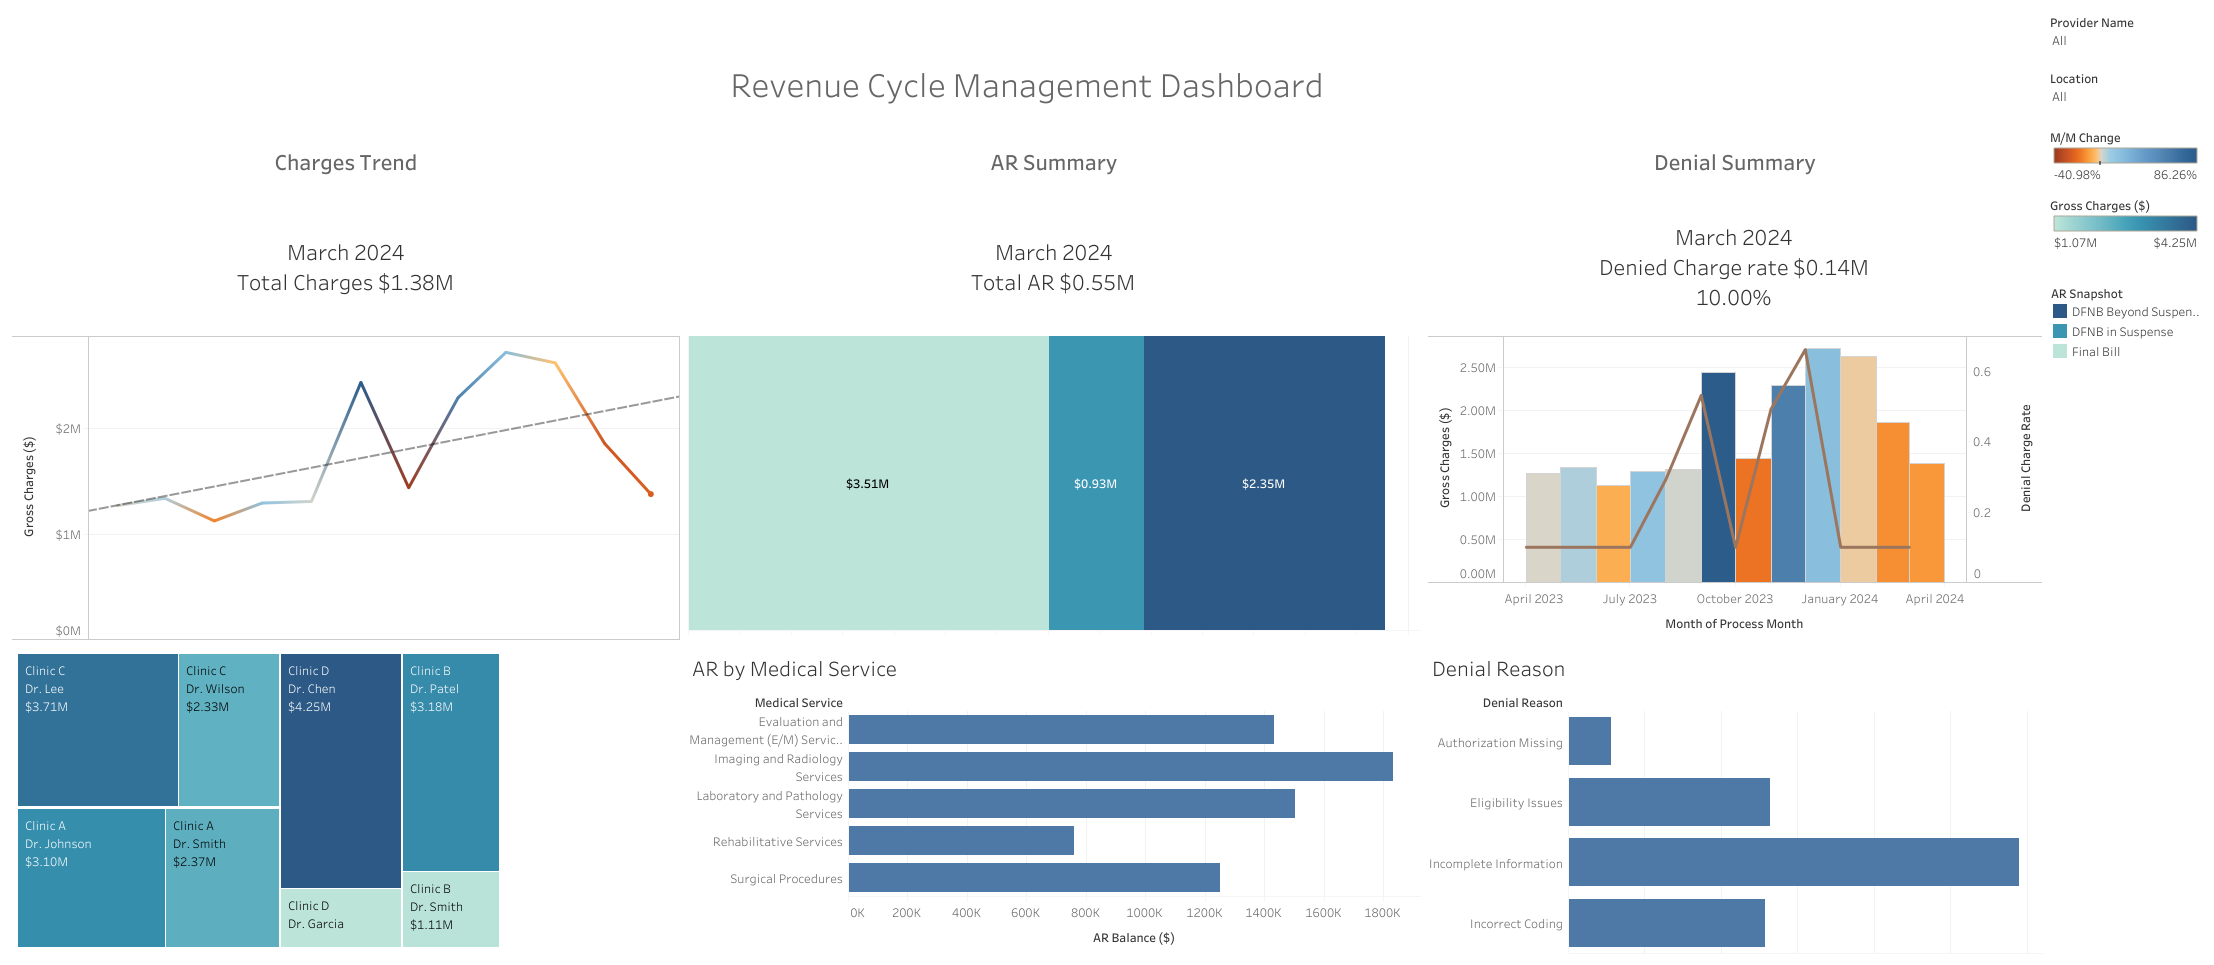

The dashboard page shown, as its layout file describes it:
{"tool":"tableau","page":{"name":"RCM Dashboard","canvas":[1000,1000],"units":"permille","ordinal":0},"visuals":[{"type":"text","box":[3.6,8.3,920.5,119]},{"type":"filter","title":"Charges Summary","param":"[federated.16bhspy0y75qh519diu720tpfvbz].[none:Provider Name:nk]","box":[924.1,8.3,72.3,58]},{"type":"filter","title":"Charges Summary","param":"[federated.16bhspy0y75qh519diu720tpfvbz].[none:Location:nk]","box":[924.1,66.3,72.3,58]},{"type":"legend","title":"Charges Summary","param":"[federated.16bhspy0y75qh519diu720tpfvbz].[usr:Calculation_1055595980083200:qk]","box":[924.1,124.4,72.3,70.5]},{"type":"text","box":[3.6,127.3,305.5,79.8]},{"type":"text","box":[309.1,127.3,334.3,79.8]},{"type":"text","box":[643.4,127.3,280.8,79.8]},{"type":"legend","title":"Provider Detail","param":"[federated.16bhspy0y75qh519diu720tpfvbz].[sum:Gross Charges ($):qk]","box":[924.1,194.8,72.3,70.5]},{"type":"worksheet","title":"Charges Metrics","mark":"Automatic","box":[3.6,207.1,305.5,136.8]},{"type":"worksheet","title":"AR Aging Total","mark":"Automatic","box":[309.1,207.1,334.3,136.8]},{"type":"worksheet","title":"Denied Charge Rate","mark":"Automatic","box":[643.4,207.1,280.8,136.8]},{"type":"legend","title":"Provider Detail","param":"[federated.16bhspy0y75qh519diu720tpfvbz].[sum:Gross Charges ($):qk]","box":[924.1,265.3,72.3,22.8]},{"type":"legend","title":"Account Chronology Bar","param":"[federated.16bhspy0y75qh519diu720tpfvbz].[none:AR Snapshot:nk]","box":[924.1,288.1,72.3,90.2]},{"type":"worksheet","title":"Charges Summary","mark":"Automatic","rows":["Gross Charges ($)","Calculation_1055595980910593"],"cols":["Process Month"],"box":[3.6,343.9,305.5,323.9]},{"type":"worksheet","title":"Denial Rate Trend","mark":"Automatic","rows":["Gross Charges ($)","Calculation_1125964833370267"],"cols":["Process Month"],"box":[643.4,343.9,280.8,323.9]},{"type":"worksheet","title":"Account Chronology Bar","mark":"Bar","cols":["AR Balance ($)"],"box":[309.1,344,334.3,323.8]},{"type":"worksheet","title":"Provider Detail","mark":"Automatic","box":[3.6,667.8,305.5,323.9]},{"type":"worksheet","title":"AR by Medical Service","mark":"Automatic","rows":["Medical Service"],"cols":["AR Balance ($)"],"box":[309.1,667.8,334.3,323.9]},{"type":"worksheet","title":"Denial Reason","mark":"Automatic","rows":["Denial Reason"],"cols":["Calculation_1125964832911514"],"box":[643.4,667.8,280.8,323.9]}]}

Visuals, with their boxes on the dashboard's canvas, which has no fixed pixel size, in thousandths of its width and height (x1, y1, x2, y2). These are canvas units, not pixel positions in the 2214x965 screenshot, which may show the page scaled, cropped or inside an application window:
text: select_region(4, 8, 924, 127)
"Charges Summary" filter: select_region(924, 8, 996, 66)
"Charges Summary" filter: select_region(924, 66, 996, 124)
"Charges Summary" legend: select_region(924, 124, 996, 195)
text: select_region(4, 127, 309, 207)
text: select_region(309, 127, 643, 207)
text: select_region(643, 127, 924, 207)
"Provider Detail" legend: select_region(924, 195, 996, 265)
"Charges Metrics" worksheet: select_region(4, 207, 309, 344)
"AR Aging Total" worksheet: select_region(309, 207, 643, 344)
"Denied Charge Rate" worksheet: select_region(643, 207, 924, 344)
"Provider Detail" legend: select_region(924, 265, 996, 288)
"Account Chronology Bar" legend: select_region(924, 288, 996, 378)
"Charges Summary" worksheet: select_region(4, 344, 309, 668)
"Denial Rate Trend" worksheet: select_region(643, 344, 924, 668)
"Account Chronology Bar" worksheet (Bar marks): select_region(309, 344, 643, 668)
"Provider Detail" worksheet: select_region(4, 668, 309, 992)
"AR by Medical Service" worksheet: select_region(309, 668, 643, 992)
"Denial Reason" worksheet: select_region(643, 668, 924, 992)
